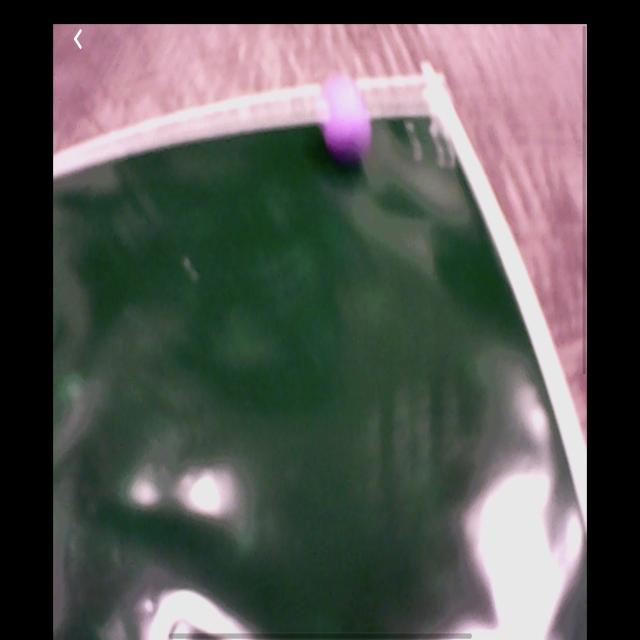ball: (318, 71, 374, 167)
